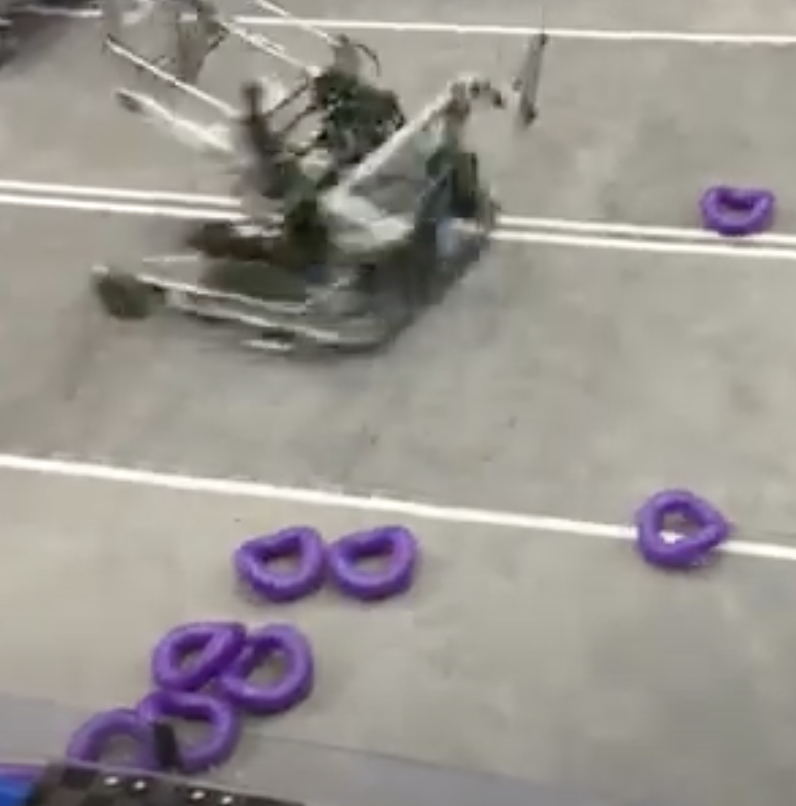ring: (136, 690, 241, 768), (218, 626, 314, 711), (67, 705, 169, 777), (637, 488, 728, 566), (324, 523, 417, 597), (234, 525, 326, 597), (152, 620, 241, 691), (699, 185, 775, 236)
